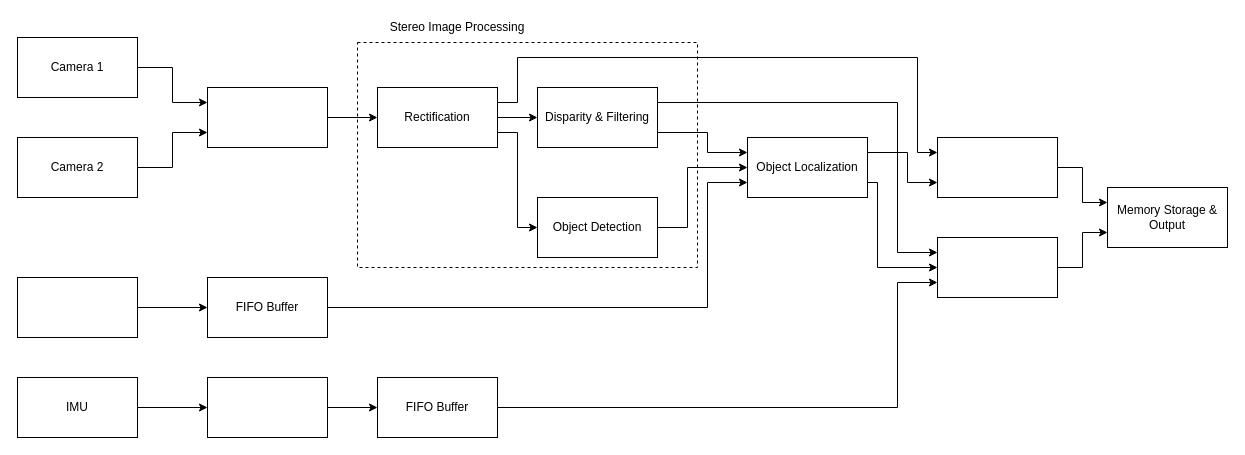
This 1245x455 diagram has some shape labels left out. Here are the shapes that lost their labels. From the top down, the centre of each, then its label:
the point at 267,117: Frame Buffer RAM
the point at 997,167: Augmented Video
the point at 997,267: Floor Plan Generation
the point at 77,307: Rangefinder
the point at 267,407: Directional Analysis
